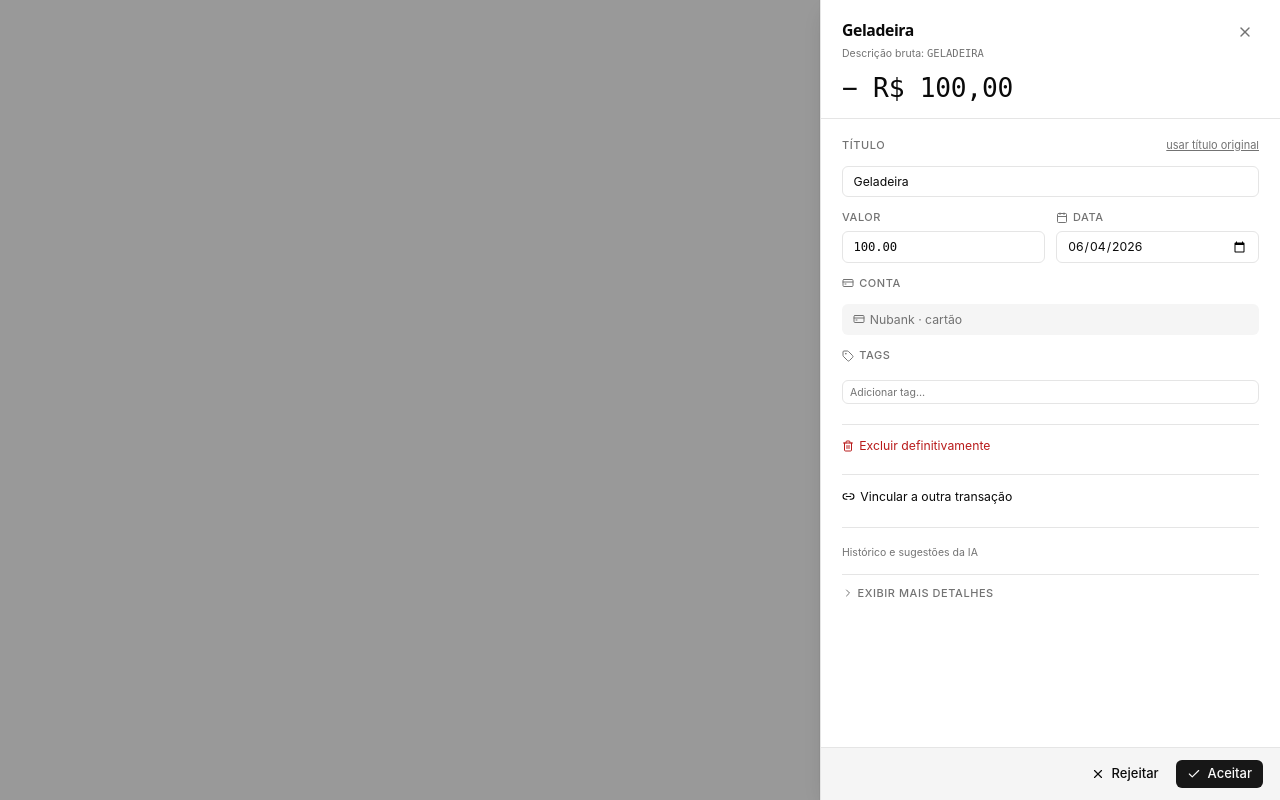
Test: <TransactionDetailSheet /> parcelamento › "exibir mais detalhes" busca e mostra o payload do Pluggy
Step 1. Click the button with test id "source-toggle-t1" → {"x": 918, "y": 593}, box [842, 585, 994, 602]
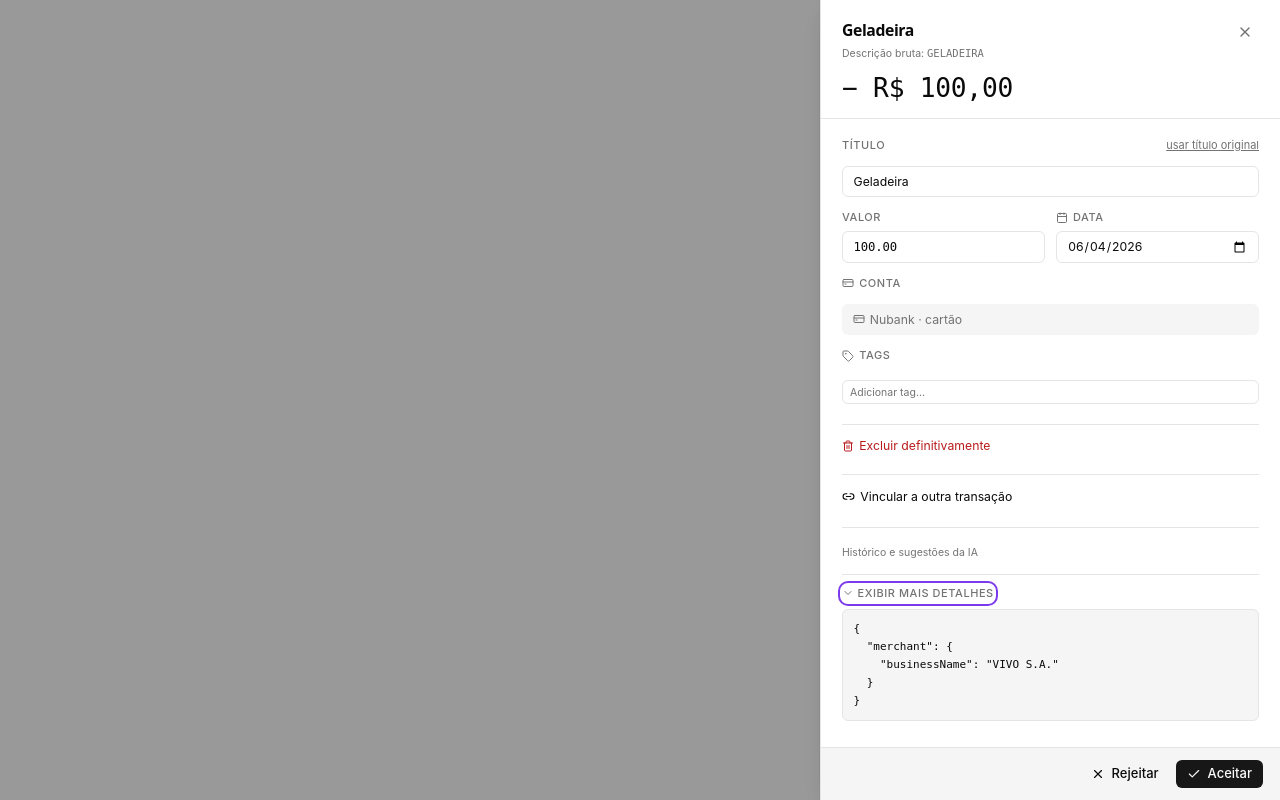
Expected: the element with test id "source-t1" shows "VIVO S.A.", [854, 622, 1059, 706]
